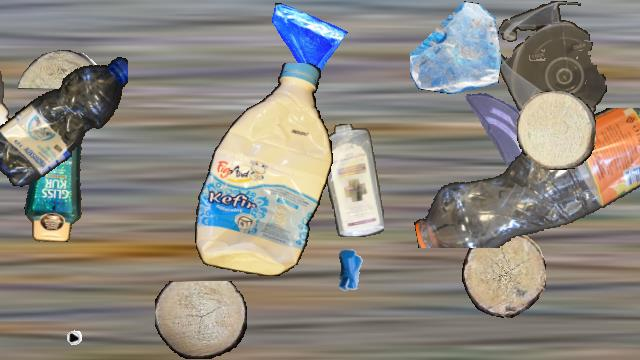glass: (410, 1, 502, 93), (461, 89, 545, 173), (266, 1, 348, 83)
metal: (320, 241, 382, 303), (29, 290, 89, 350)
plastic: (409, 108, 640, 248), (191, 63, 333, 275), (0, 50, 127, 190), (496, 1, 608, 133), (20, 99, 92, 241), (323, 124, 383, 236), (0, 1, 11, 131)
wood: (462, 232, 546, 318), (155, 281, 247, 359), (517, 91, 595, 169), (18, 50, 102, 88)
